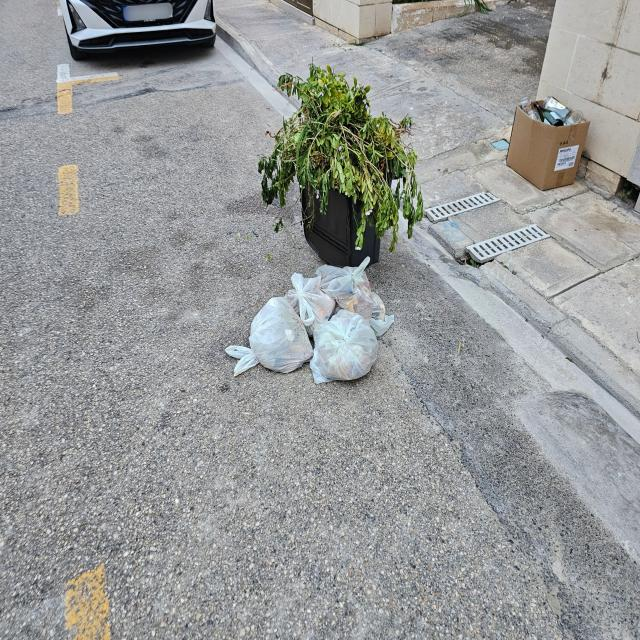white_bag: (220, 295, 314, 381), (317, 257, 396, 335), (311, 307, 378, 387), (281, 269, 335, 334)
